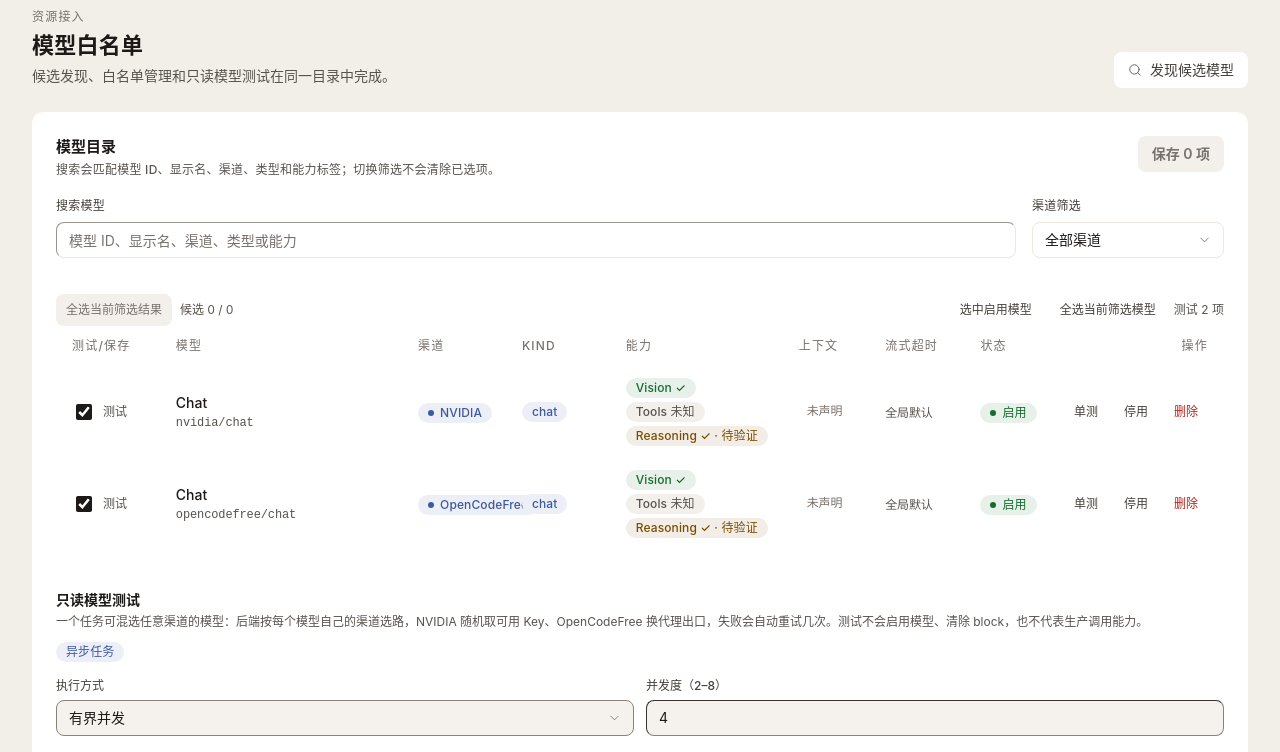
Test: ModelsView › tests models from every provider in one batch
What coordinates should you click on to do the following:
click the button with test id "select-enabled-test-models"
I would click on:
 (996, 310)
Its box is [950,294,1042,326].
(page scrolled)
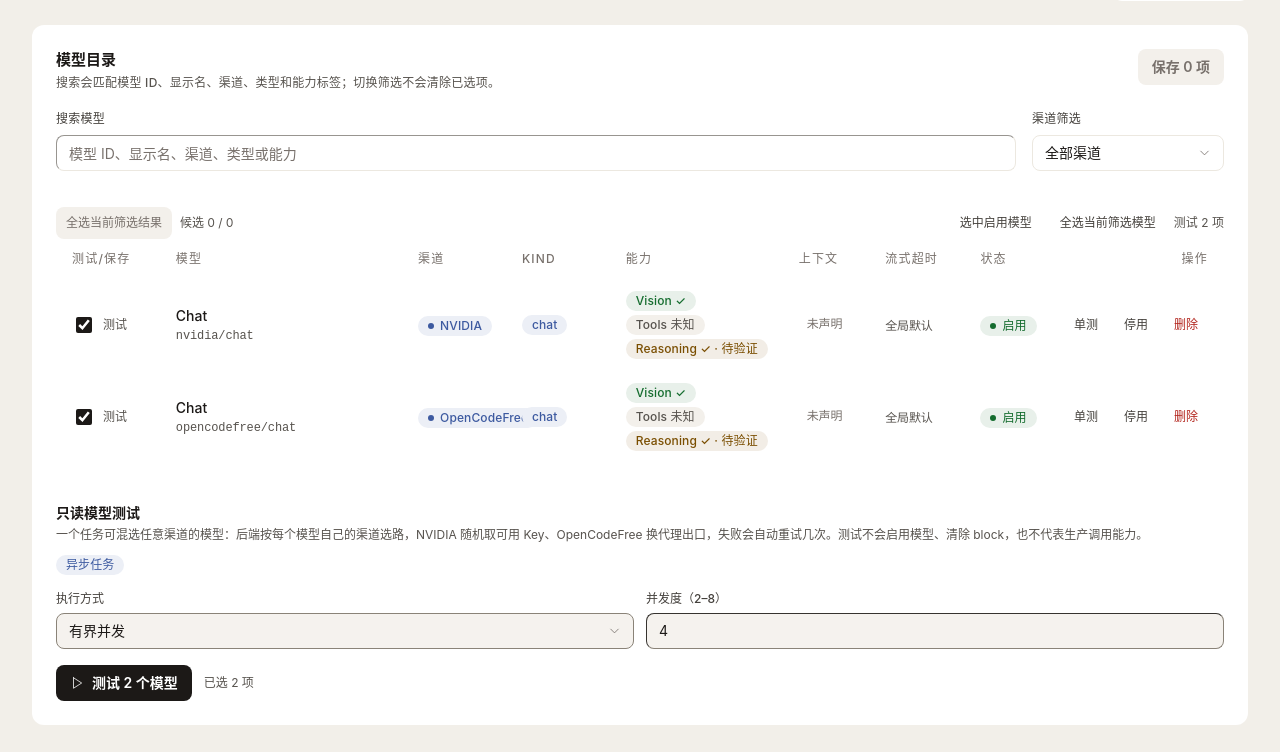
Expected: the checkbox with test id "test-model-1" is checked, [76,317,92,333]
Expected: the checkbox with test id "test-model-2" is checked, [76,409,92,425]
What coordinates should you click on to do the following:
click the button with test id "start-model-test"
I would click on:
 (124, 683)
Its box is [56,665,192,701].
(page scrolled)
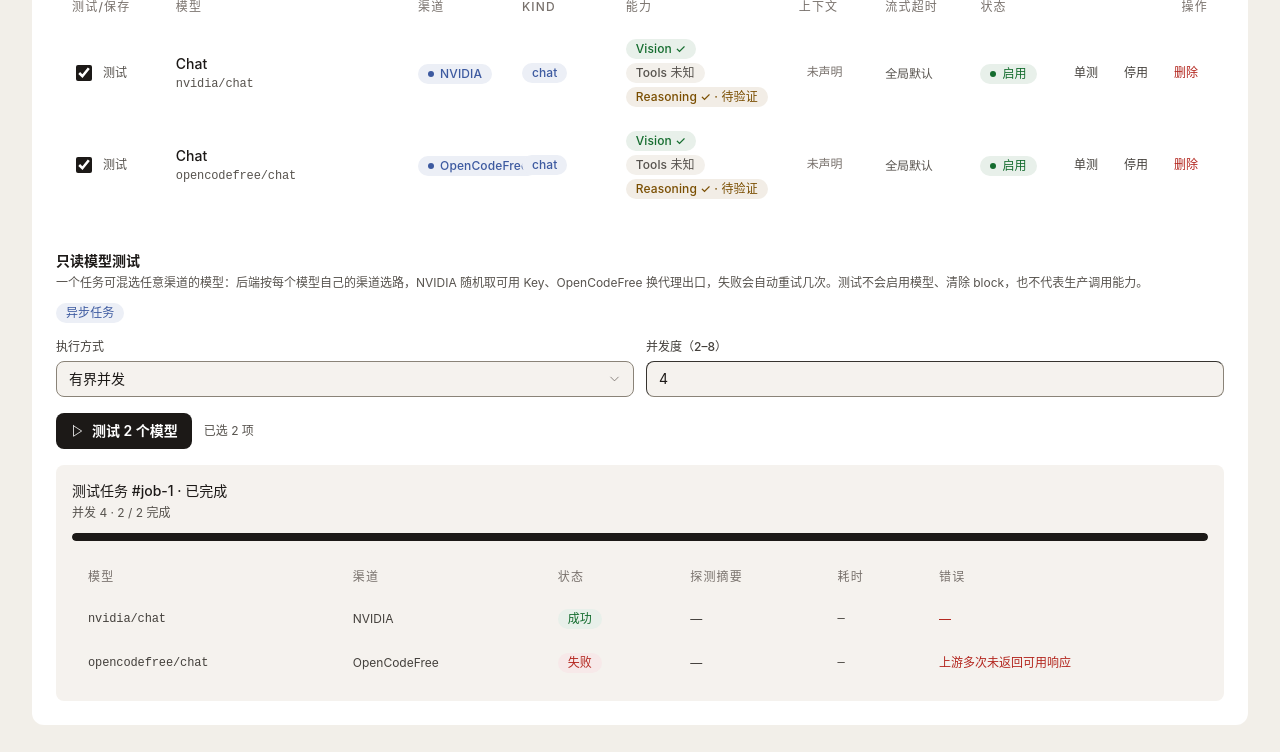
Now the element with test id "model-test-job" shows "nvidia", box [353,610,394,626]
Now the element with test id "model-test-job" shows "OpenCodeFree", box [353,654,439,670]
